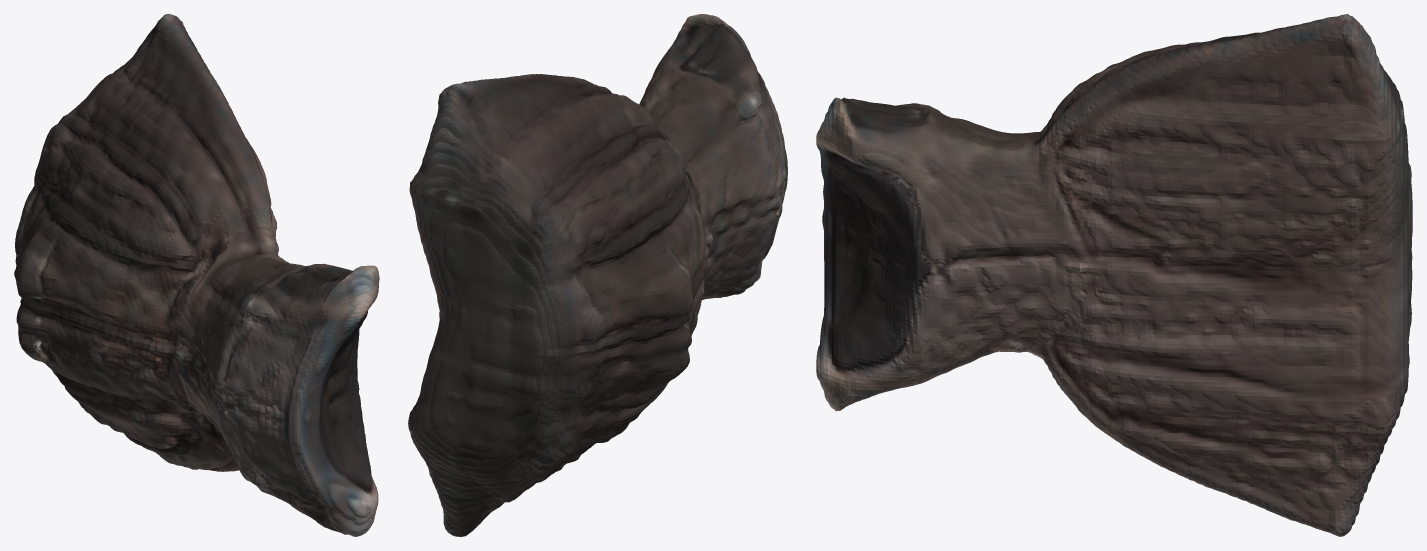
The picture shows the model from 3 angles, left to right: view 1: azimuth 30°, elevation 25°; view 2: azimuth 150°, elevation 25°; view 3: azimuth 270°, elevation 25°; orthographic projection. The views are drawn at different scales.
Size of the model in its own units: 0.5035 by 0.9575 by 1.
